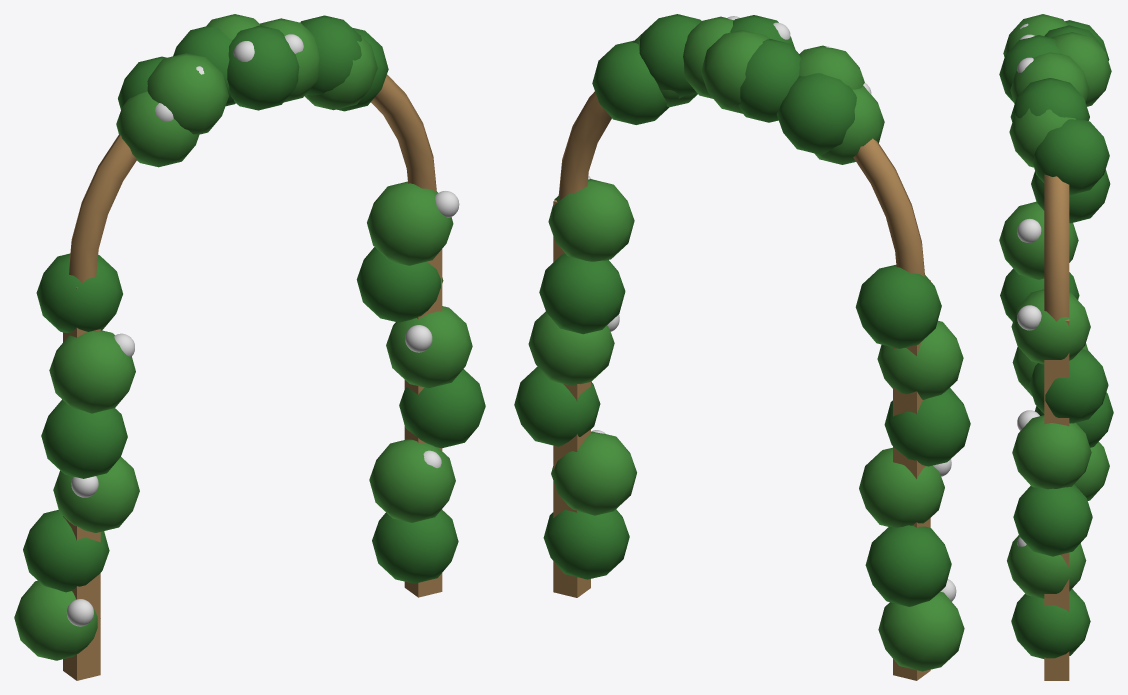
Rendered from jasmineArch.glb.
3 renders of one model, left to right at view 1: azimuth 30°, elevation 25°; view 2: azimuth 150°, elevation 25°; view 3: azimuth 270°, elevation 25°, orthographic. The views are drawn at different scales.
Parts seen in each view (by area): view 1: farm_jasmineArch; view 2: farm_jasmineArch; view 3: farm_jasmineArch.
Part boxes in pixels (box(x1,y1,x2,y2)): farm_jasmineArch: box(14, 14, 485, 680); farm_jasmineArch: box(514, 14, 970, 680); farm_jasmineArch: box(999, 14, 1113, 680).
Size of the model in its own units: 2.64 by 3.42 by 0.6344.
